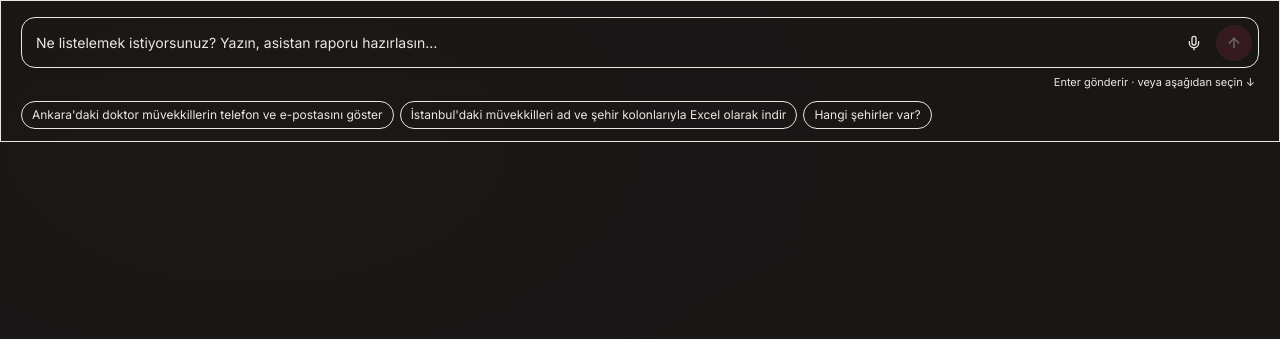
Scenario: AssistantBar (G143/G167/G174) › çipler kaynağa göre; ilk tık girdiye yazar ve odaklar, aynı çipe ikinci tık gönderir (gövde mevcut_tanim ile)
Click the button with test id "ornek-istem" at (207,114), box [21,100,394,128]
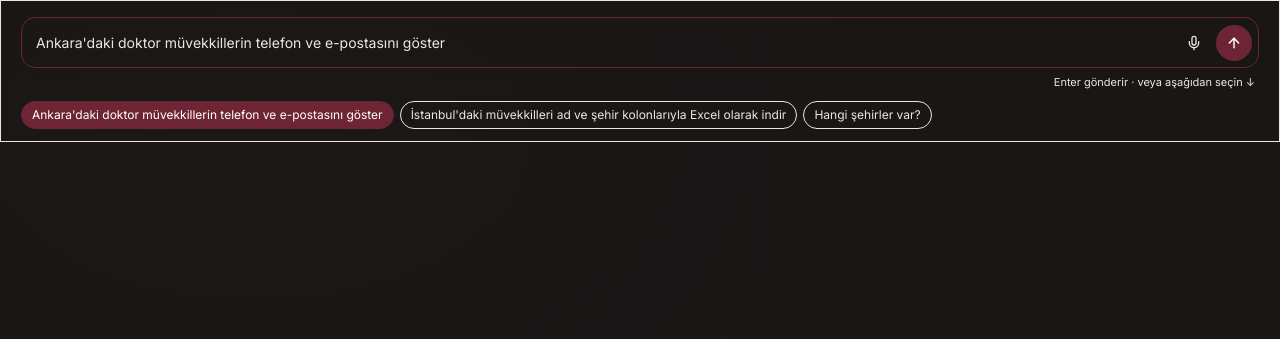
Check: the text box named "Asistana mesaj" holds "Ankara'daki doktor müvekkillerin telefon ve e-postasını göster", box [36,24,1172,61]
Click the 1st button with test id "ornek-istem" at (207,114), box [21,100,394,128]
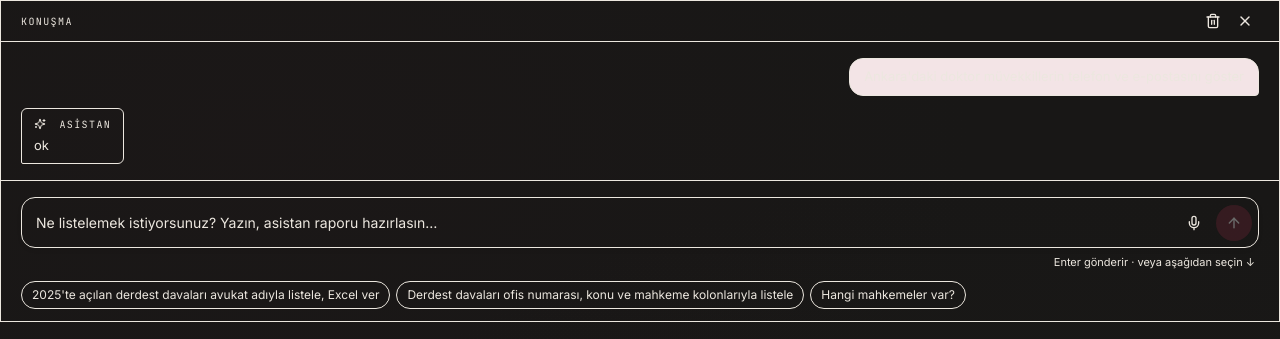
Check: the element with test id "asistan-konusmasi" is shown, box [1,1,1279,181]
Check: the text box named "Asistana mesaj" is empty, box [36,204,1172,241]
